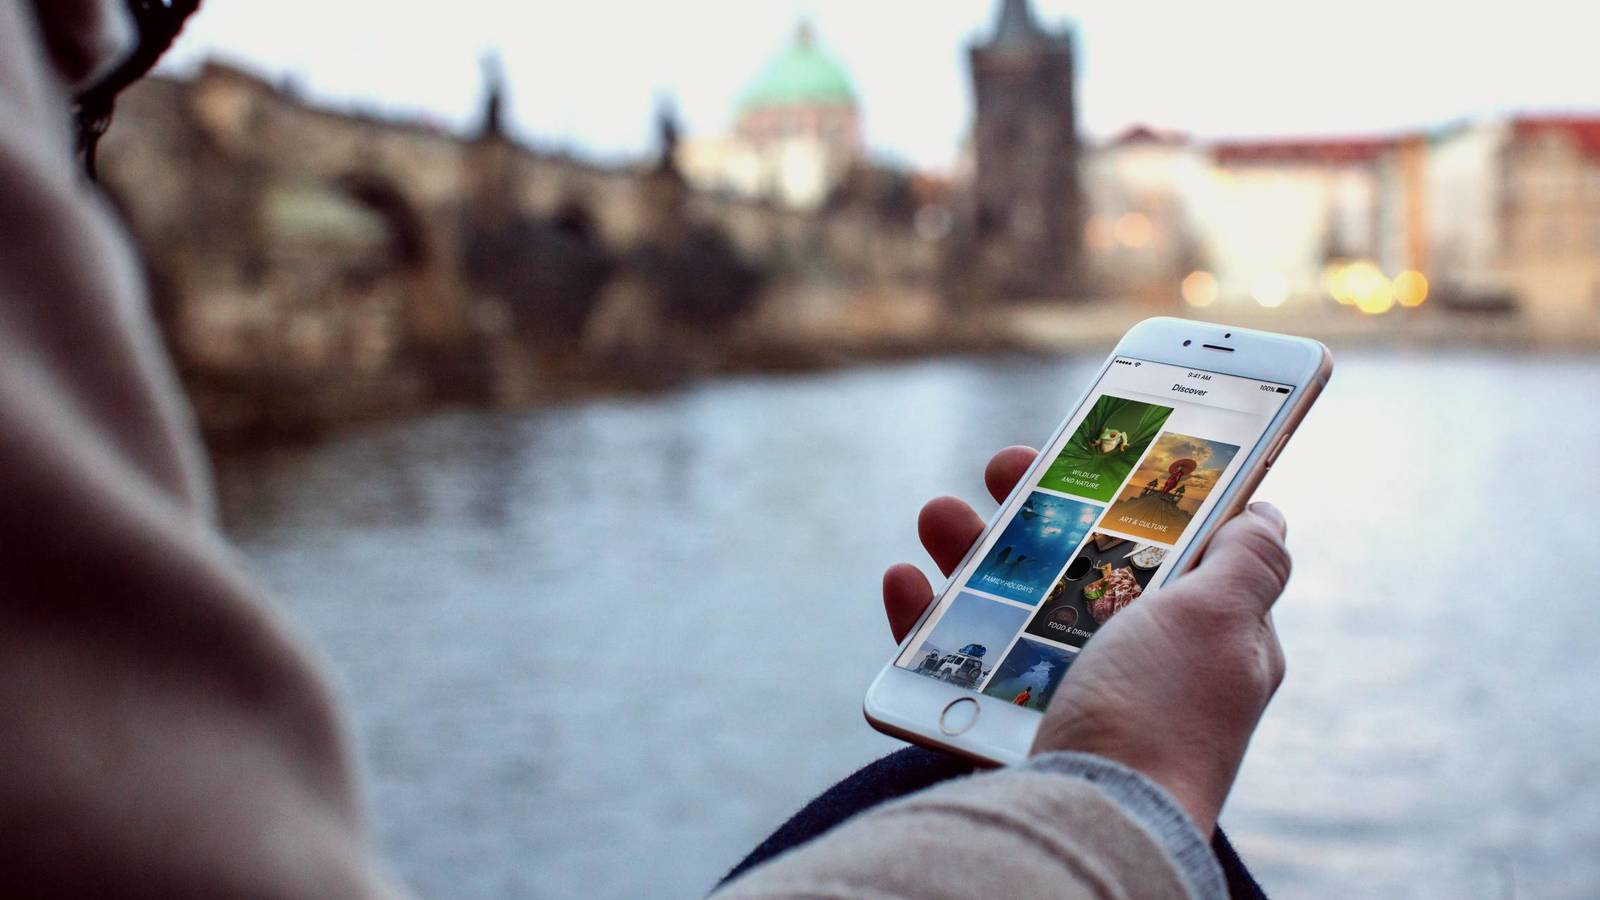smartphone: (860, 314, 1335, 774)
